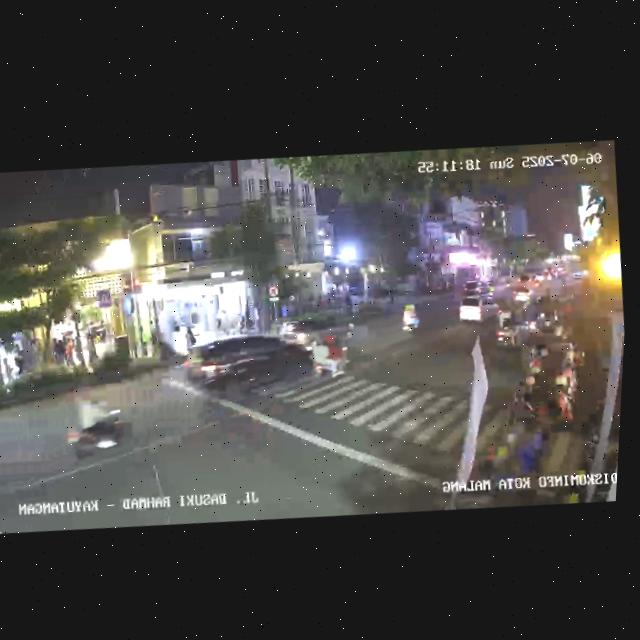car: (180, 322, 328, 404), (454, 290, 503, 328)
motorcycle: (58, 389, 138, 468), (307, 329, 355, 393), (491, 303, 520, 353), (397, 300, 424, 340)
person: (62, 333, 77, 371), (50, 335, 67, 368), (183, 323, 197, 352), (2, 355, 15, 384)
